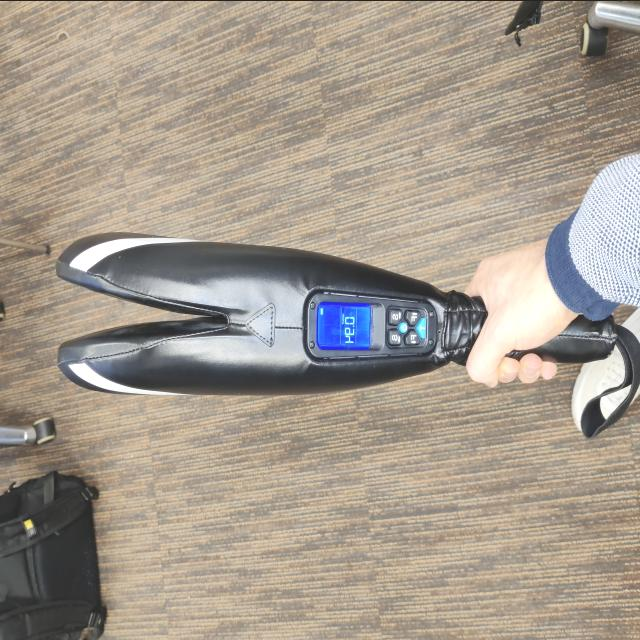paddle: (51, 228, 618, 404)
